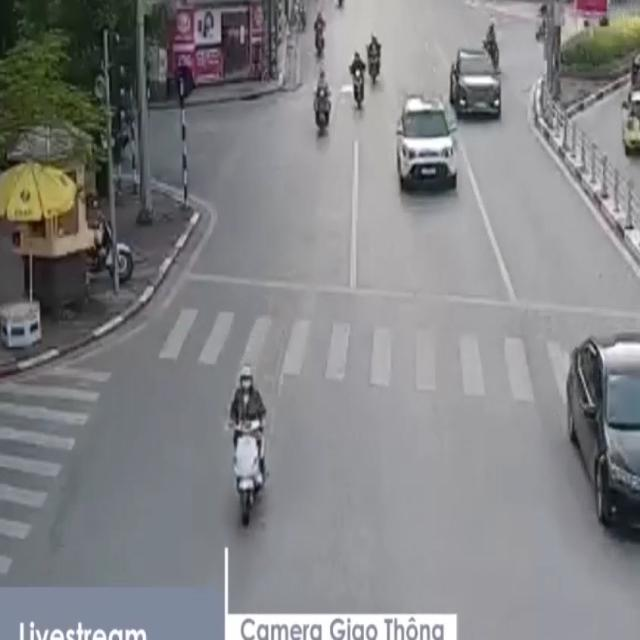car: (567, 336, 640, 542), (396, 98, 459, 190), (453, 50, 504, 119)
motorbike: (226, 362, 274, 529), (308, 66, 334, 135), (347, 51, 368, 113), (363, 30, 382, 88), (477, 17, 496, 55)
